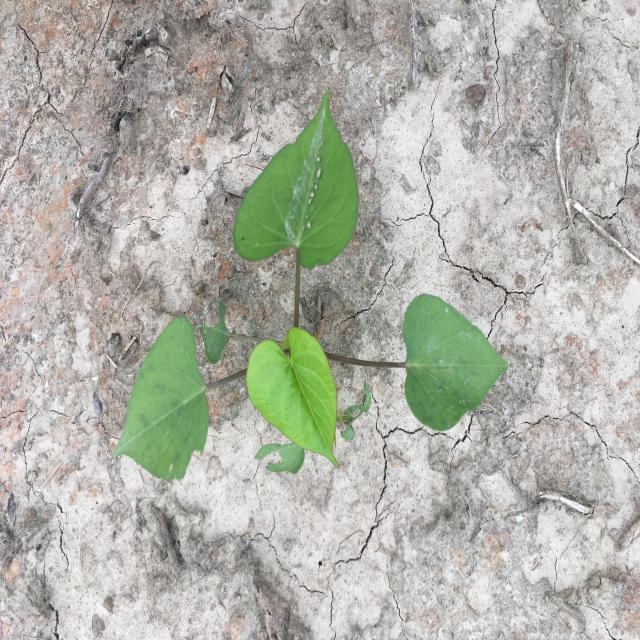MorningGlory: (113, 90, 509, 482)
